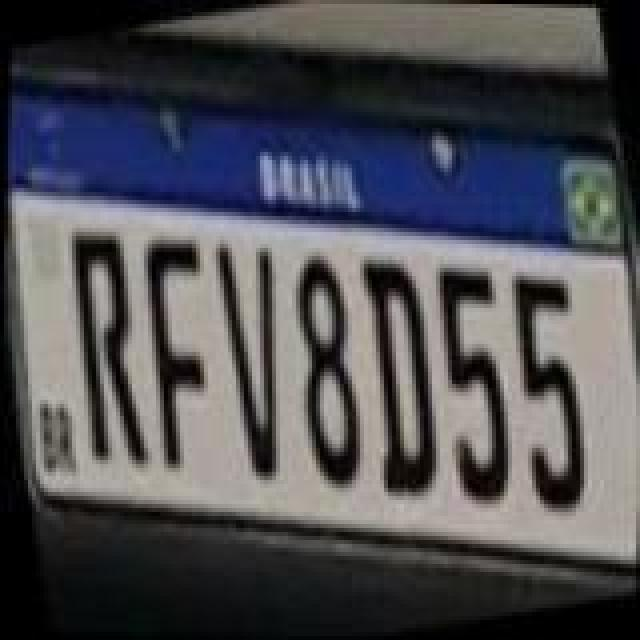5: (412, 256, 532, 512), (488, 260, 608, 516)
8: (268, 242, 380, 490)
D: (336, 240, 456, 496)
F: (116, 228, 236, 468)
R: (44, 220, 164, 476)
V: (200, 232, 312, 480)
